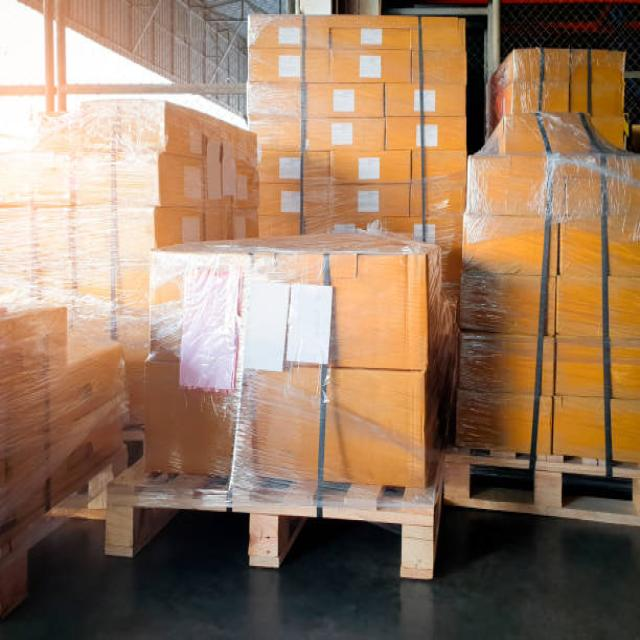Wooden-Pallets: (101, 476, 439, 590), (439, 438, 640, 550)
